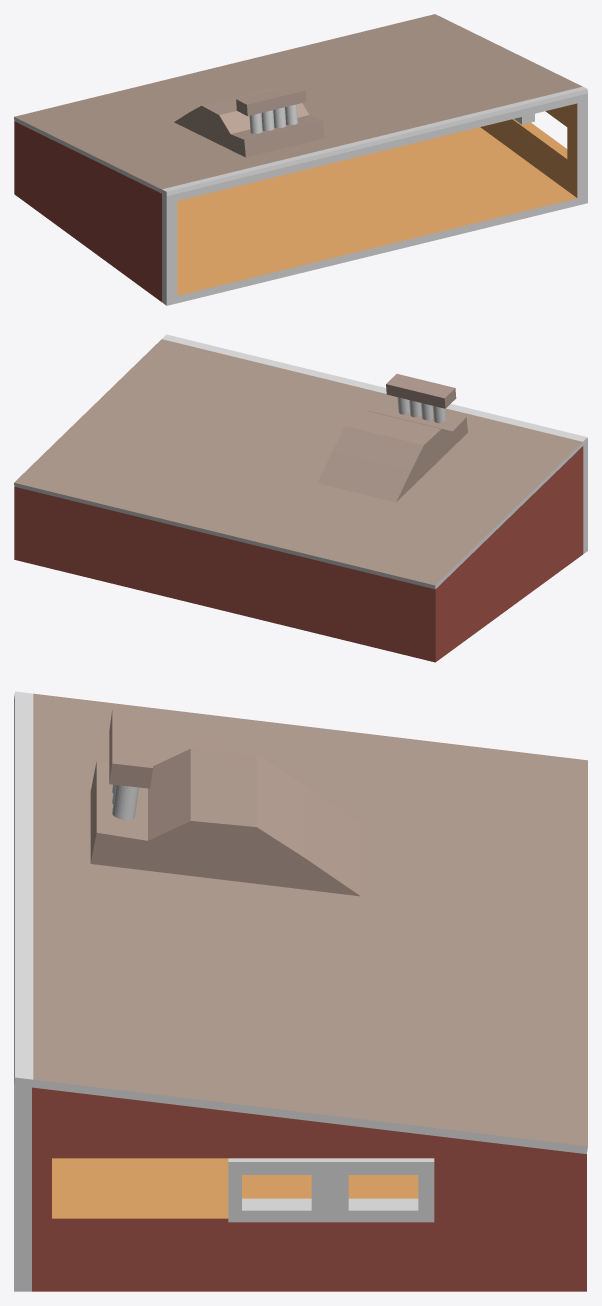
Rendered from BoxHouse.glb.
The picture shows the model from 3 angles, top to bottom: view 1: azimuth 30°, elevation 25°; view 2: azimuth 150°, elevation 25°; view 3: azimuth 270°, elevation 25°; orthographic projection. The views are drawn at different scales.
Visible parts, largest first — view 1: BoxHouse; view 2: BoxHouse; view 3: BoxHouse.
Boxes of the visible parts, x1=… form: BoxHouse: x1=14, y1=14, x2=587, y2=305; BoxHouse: x1=14, y1=334, x2=587, y2=662; BoxHouse: x1=14, y1=691, x2=587, y2=1291.
Bounding box in the file's own units: 27.81 × 9.75 × 17.31.
